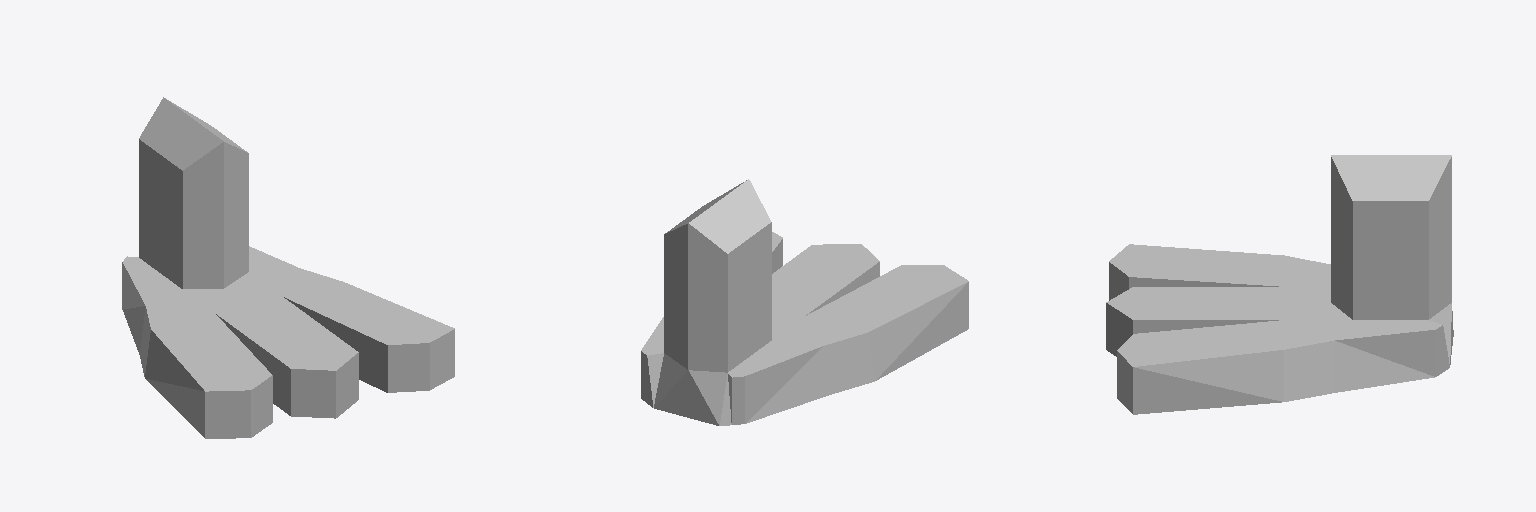
Rendered from pata_iz.obj.
The picture shows the model from 3 angles: view 1: azimuth 30°, elevation 25°; view 2: azimuth 150°, elevation 25°; view 3: azimuth 270°, elevation 25°; orthographic projection.
Visible parts, largest first — view 1: Cube.003; view 2: Cube.003; view 3: Cube.003.
Part boxes in pixels (x1,y1,x2,y2): Cube.003: (122,97,454,438); Cube.003: (641,179,968,425); Cube.003: (1106,155,1453,414).
Size of the model in its own units: 0.2107 by 0.1557 by 0.2517.